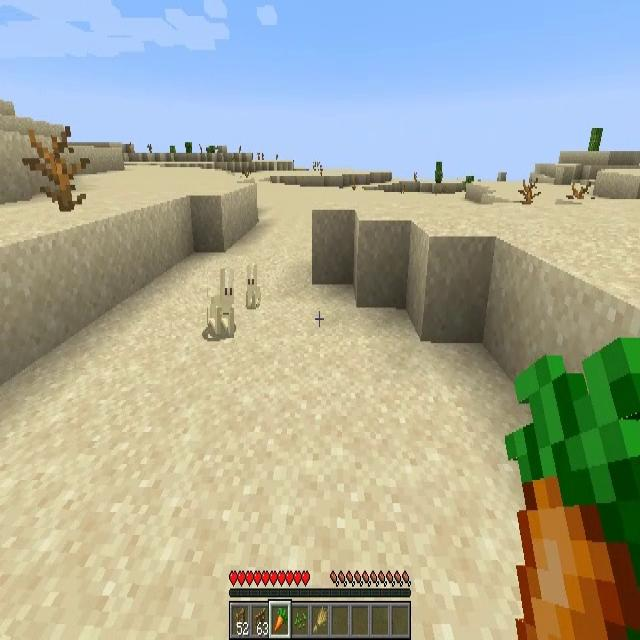rabbit: (208, 266, 234, 338), (244, 267, 262, 309)
